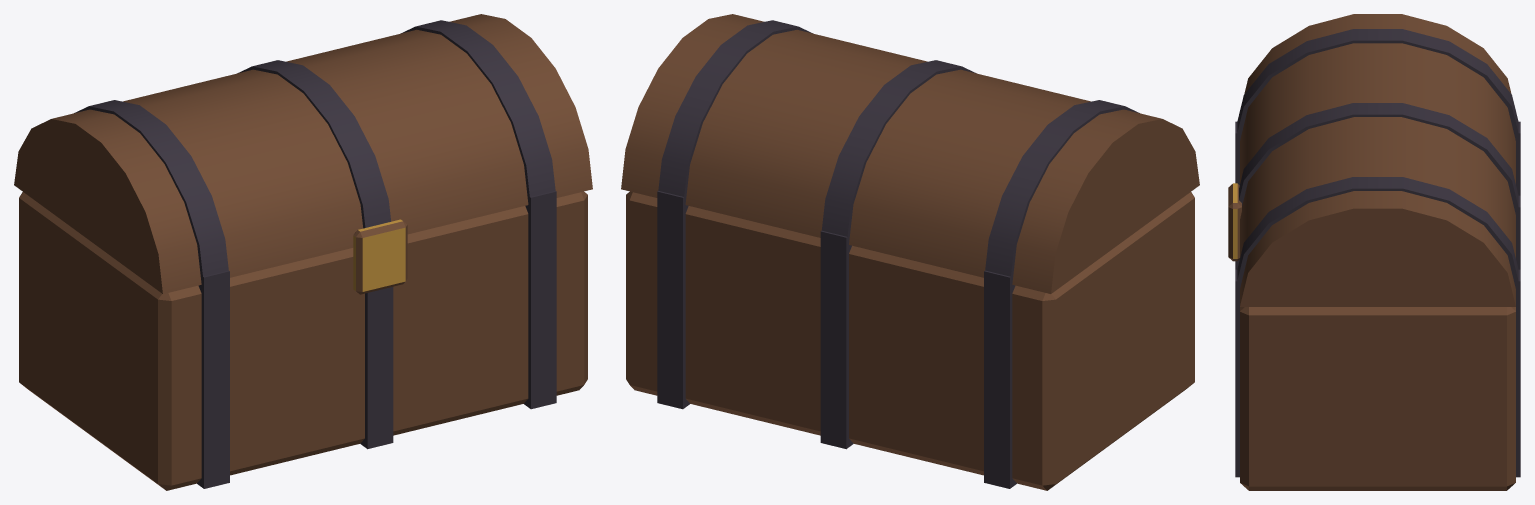
Rendered from ghost_trunk.glb.
The picture shows the model from 3 angles, left to right: view 1: azimuth 30°, elevation 25°; view 2: azimuth 150°, elevation 25°; view 3: azimuth 270°, elevation 25°; orthographic projection. The views are drawn at different scales.
Parts seen in each view (by area): view 1: ghost_trunk; view 2: ghost_trunk; view 3: ghost_trunk.
Part boxes in pixels (<box>): ghost_trunk: <box>14,14,592,490</box>; ghost_trunk: <box>621,14,1199,490</box>; ghost_trunk: <box>1228,14,1520,490</box>.
Bounding box in the file's own units: 1 × 0.6923 × 0.635.
